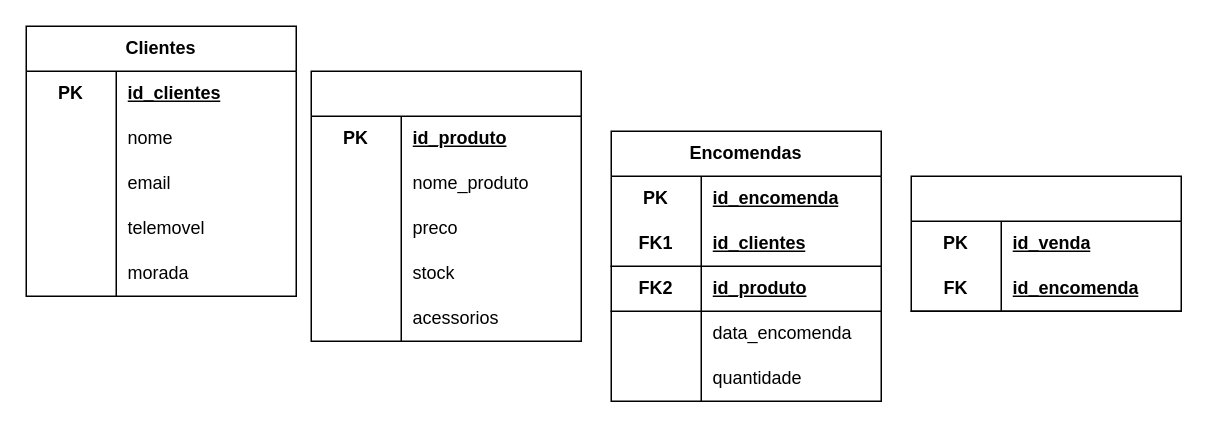
Image size: 1208x428. Some labels were removed from this diagram. Here are the shapes that lost their labels. From the top down, the box of each, then its label:
(310, 70, 581, 341): Produtos
(910, 175, 1181, 311): Vendas
